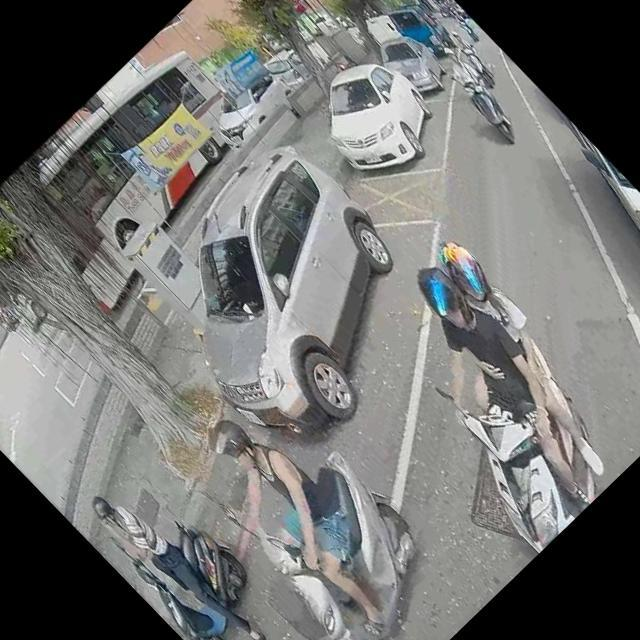person: (358, 248, 634, 529), (370, 225, 640, 501), (181, 397, 423, 640), (79, 477, 272, 640), (428, 39, 522, 135), (444, 26, 494, 78), (446, 6, 477, 38), (0, 295, 14, 324)
